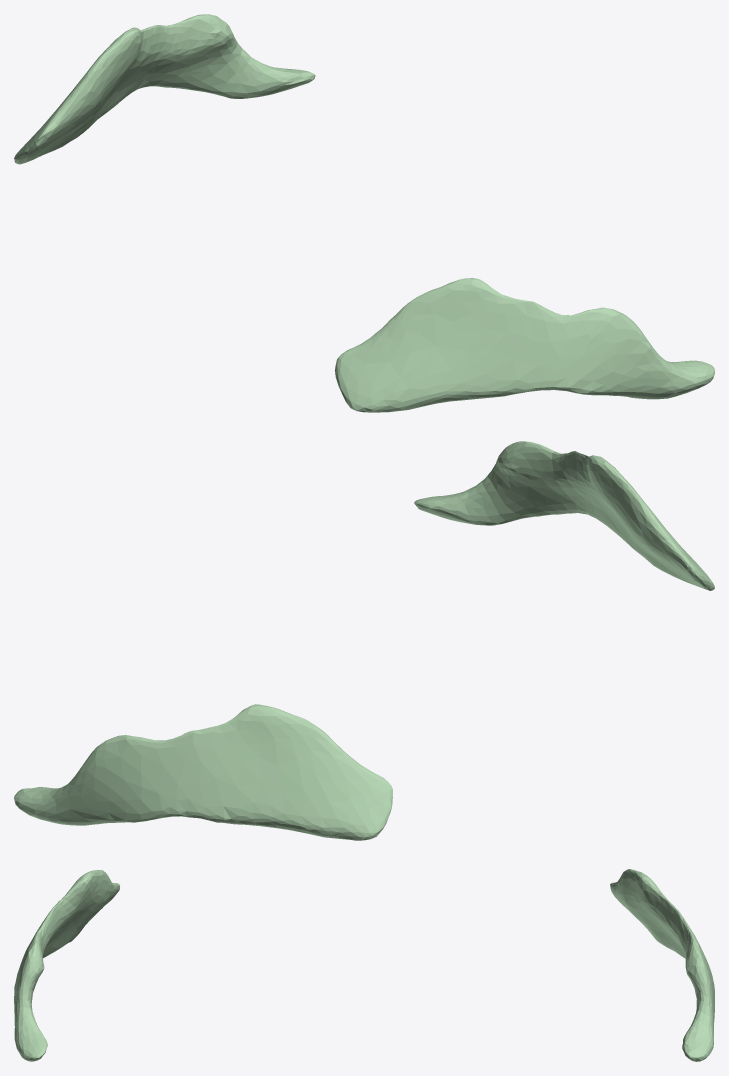
3 renders of one model, top to bottom at view 1: azimuth 30°, elevation 25°; view 2: azimuth 150°, elevation 25°; view 3: azimuth 270°, elevation 25°, orthographic. The views are drawn at different scales.
Visible parts, largest first — view 1: 966.obj; view 2: 966.obj; view 3: 966.obj.
Boxes of the visible parts, x1,y1,x2,y2 form: 966.obj: [14, 14, 714, 412]; 966.obj: [14, 441, 714, 840]; 966.obj: [14, 869, 714, 1061].
Bounding box in the file's own units: 3499 × 1322 × 7765.
